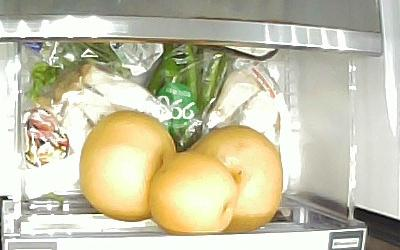pear: (81, 110, 175, 223), (188, 125, 284, 234), (149, 151, 235, 235)
